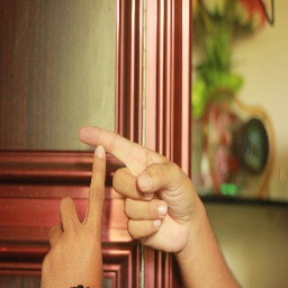T: (45, 119, 170, 265)
